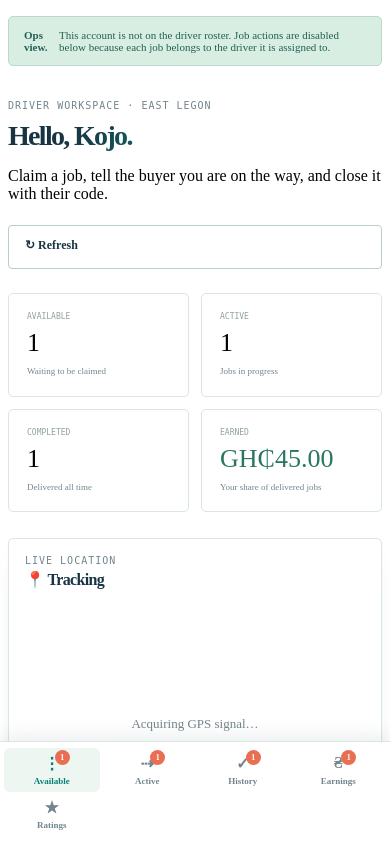
bottom navigation tabs › switching tabs changes the view
The image size is (390, 842).
Click the button "⇢ Active 1".
click(147, 770)  # box x1=100 y1=748 x2=195 y2=792
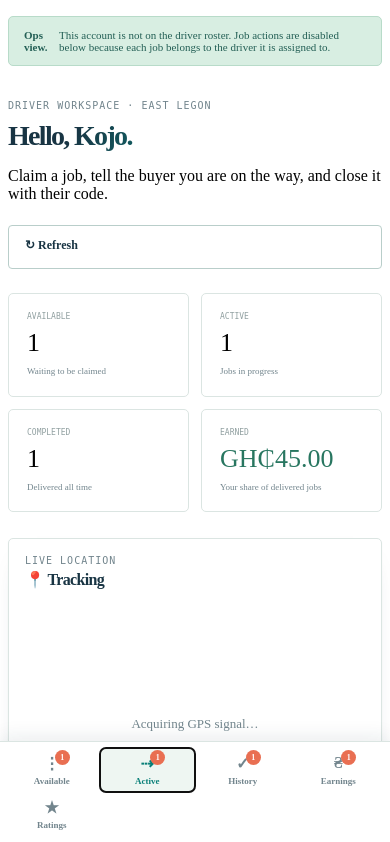
expect the button "⇢ Active 1" is marked as current: met, box x1=100 y1=748 x2=195 y2=792
Click the button "✓ History 1".
click(243, 770)  # box x1=195 y1=748 x2=290 y2=792
(page scrolled)
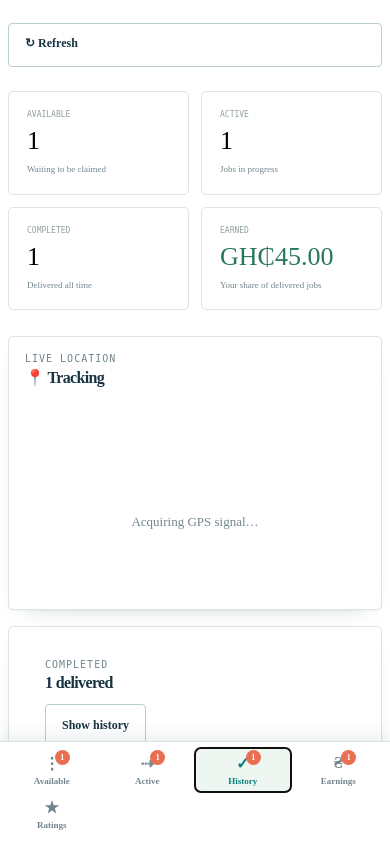
expect the 2nd text "COMPLETED" is shown: met, box x1=45 y1=659 x2=108 y2=670
